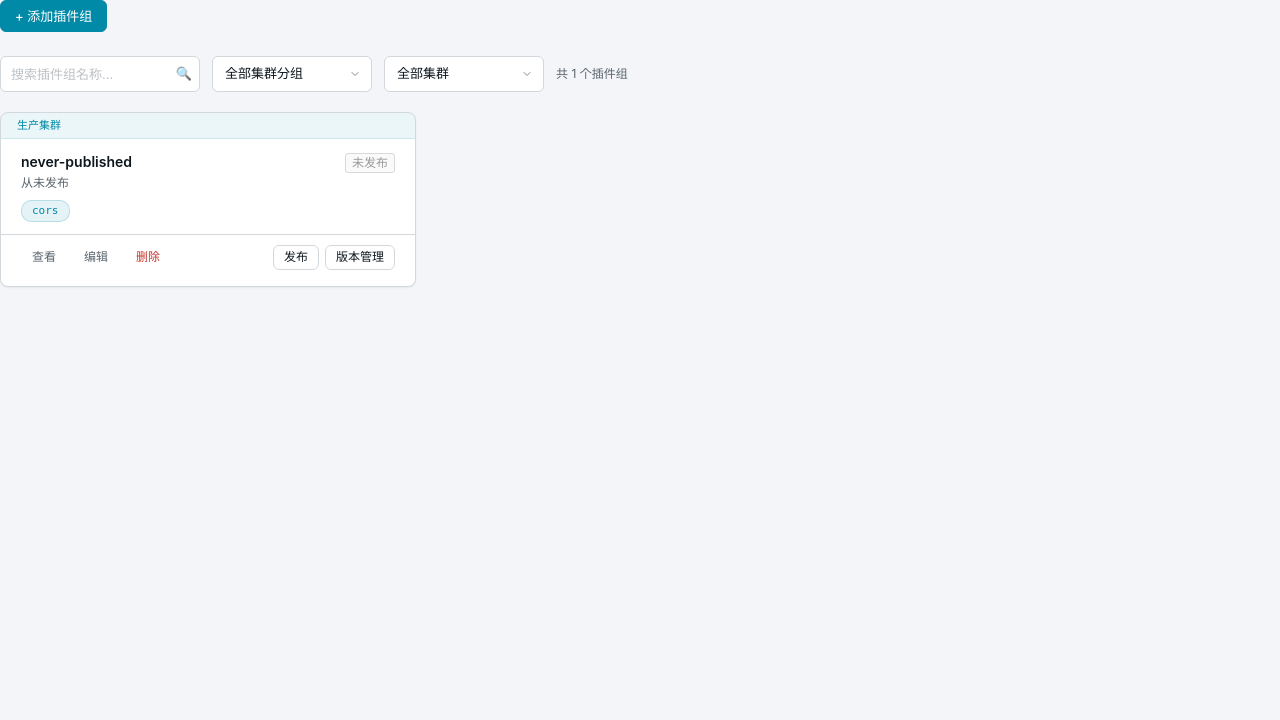
Test: PluginConfigList.vue — 删除前置引用检查（决策 A/B） › 无引用：走既有共享删除确认流程不变
Click the button "删除": (148, 258) [125,245,171,270]
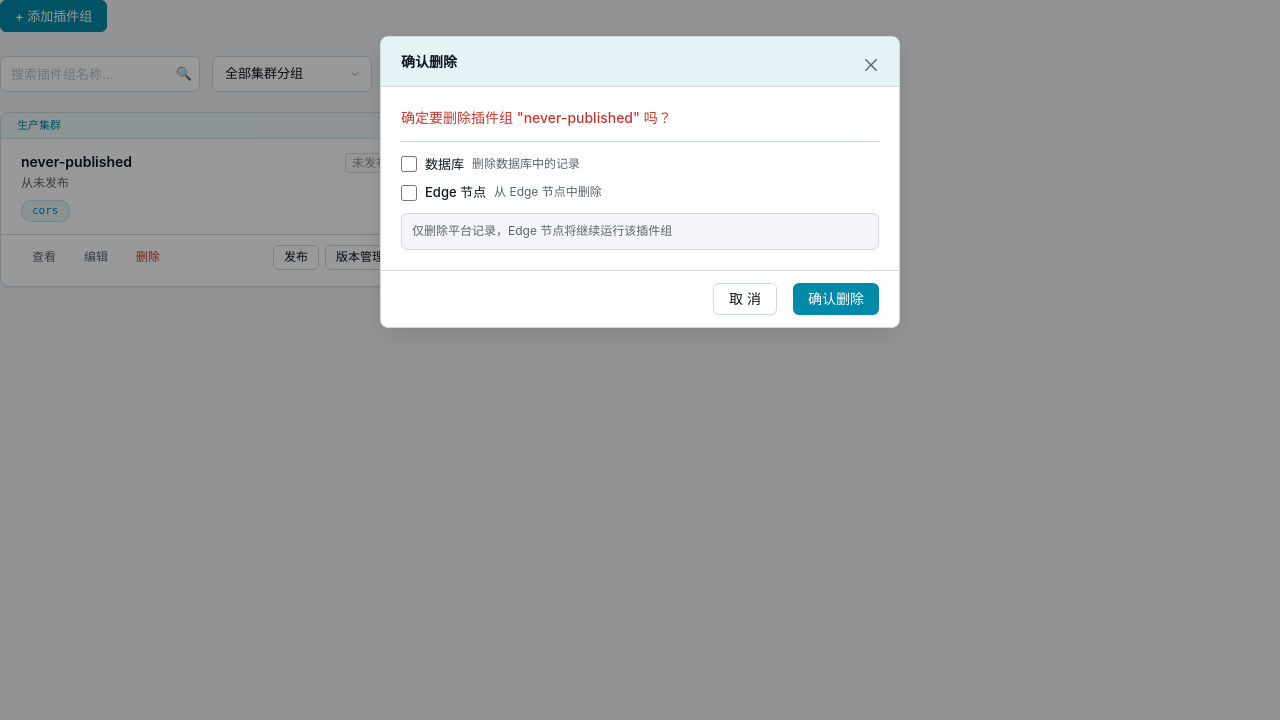
Now the element that starts with "确认删除" is shown, box [380,36,900,352]
Now the element that starts with "确认删除" shows "确定要删除插件组 \"never-published\" 吗？", box [401,109,672,126]
